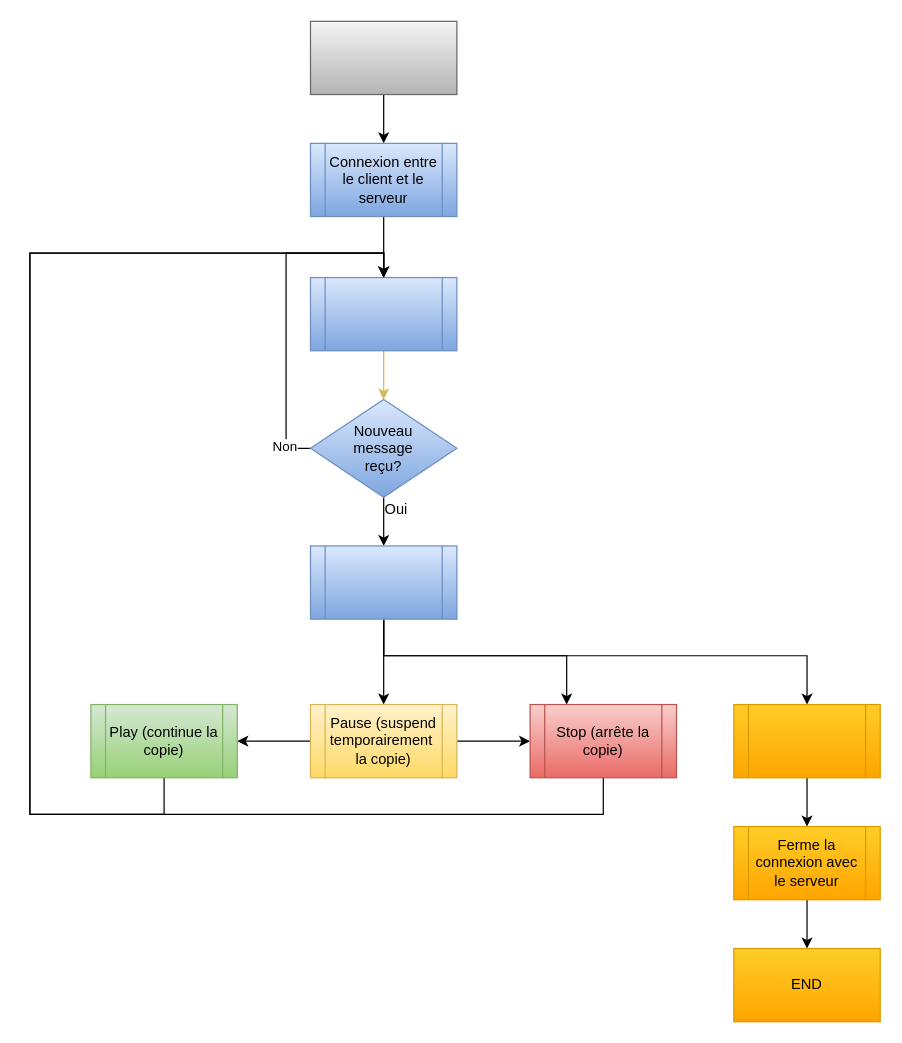
Image size: 902x1043. Some labels were removed from this diagram. Each missing label, with the centre of its shape:
"Compléter les informations grâce aux nouvelles infos" goes at [383,582].
"Ecoute du réseau en continue" goes at [383,313].
"Quitter" goes at [806,740].
"START" goes at [383,57].
